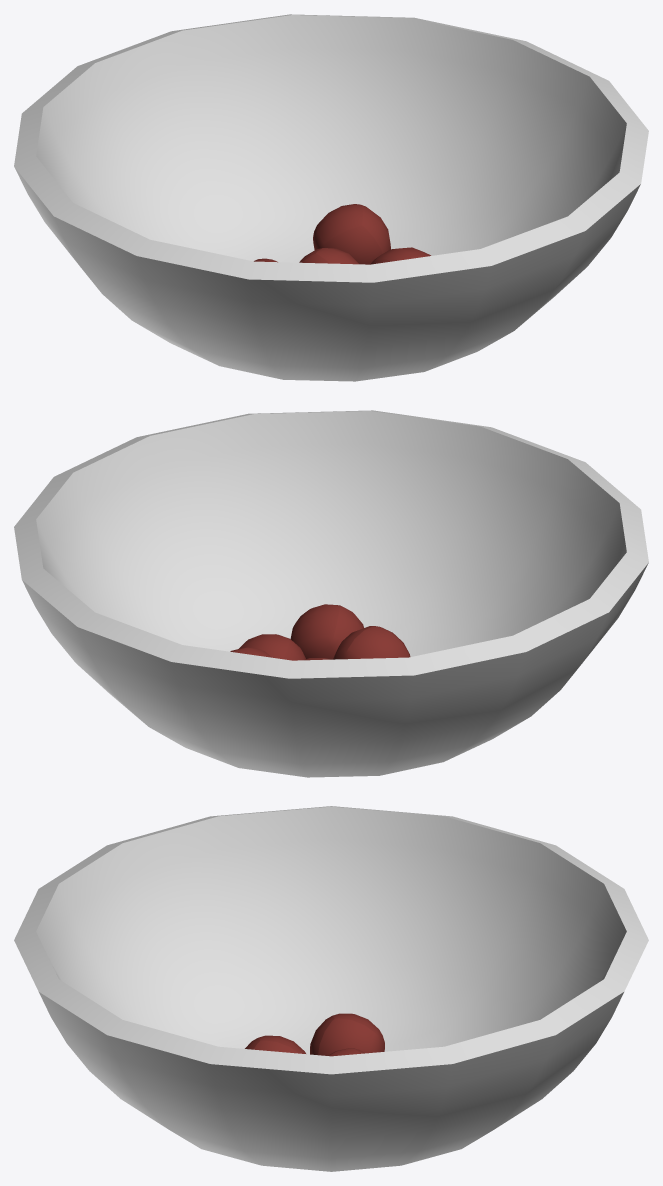
Rendered from Catfood.fbx.
3 views of the same model, one above another, from view 1: azimuth 30°, elevation 25°; view 2: azimuth 150°, elevation 25°; view 3: azimuth 270°, elevation 25° (orthographic).
Visible parts, largest first — view 1: simply_coll.002; view 2: simply_coll.002; view 3: simply_coll.002.
Part boxes in pixels (x1,y1,x2,y2): simply_coll.002: (14,14,648,381); simply_coll.002: (14,410,648,777); simply_coll.002: (14,806,648,1171).
Bounding box in the file's own units: 16.66 × 5.66 × 16.66.
